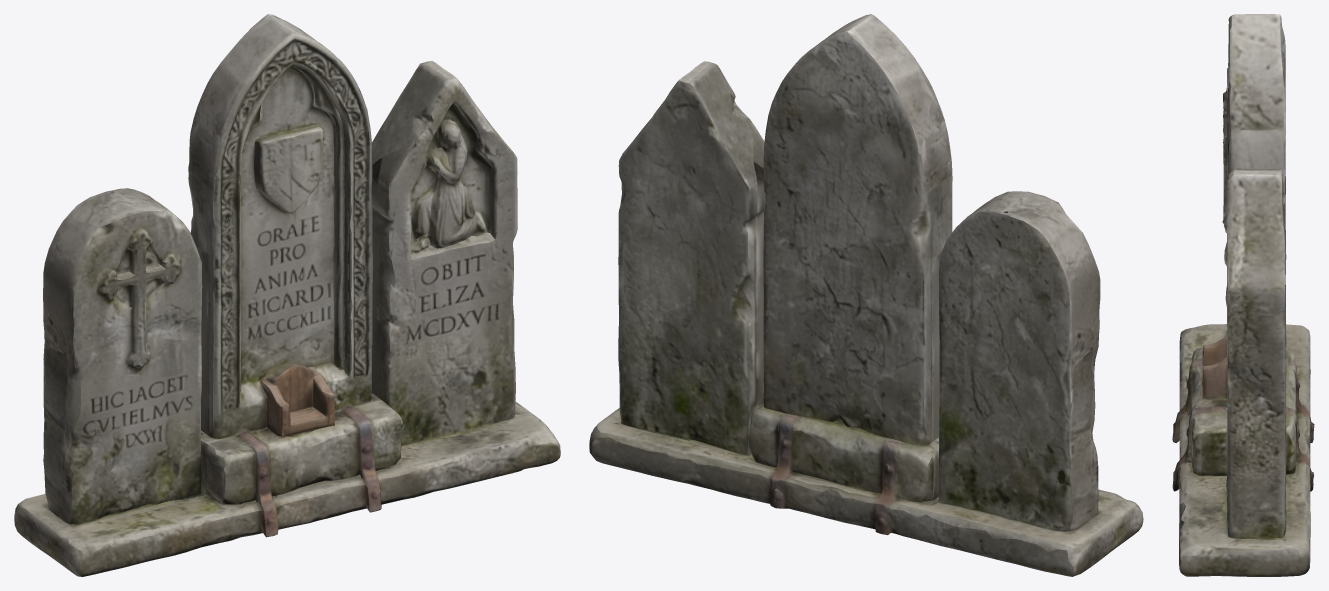
Rendered from memorial_stones.glb.
3 views of the same model, side by side, from view 1: azimuth 30°, elevation 25°; view 2: azimuth 150°, elevation 25°; view 3: azimuth 270°, elevation 25° (orthographic). The views are drawn at different scales.
Visible parts, largest first — view 1: geometry_0; view 2: geometry_0; view 3: geometry_0.
Part boxes in pixels (bbox=[...]): geometry_0: bbox=[14, 14, 560, 576]; geometry_0: bbox=[589, 14, 1143, 576]; geometry_0: bbox=[1172, 14, 1314, 576].
Bounding box in the file's own units: 0.8 × 0.7437 × 0.2124.
1 material, 1 textured.
